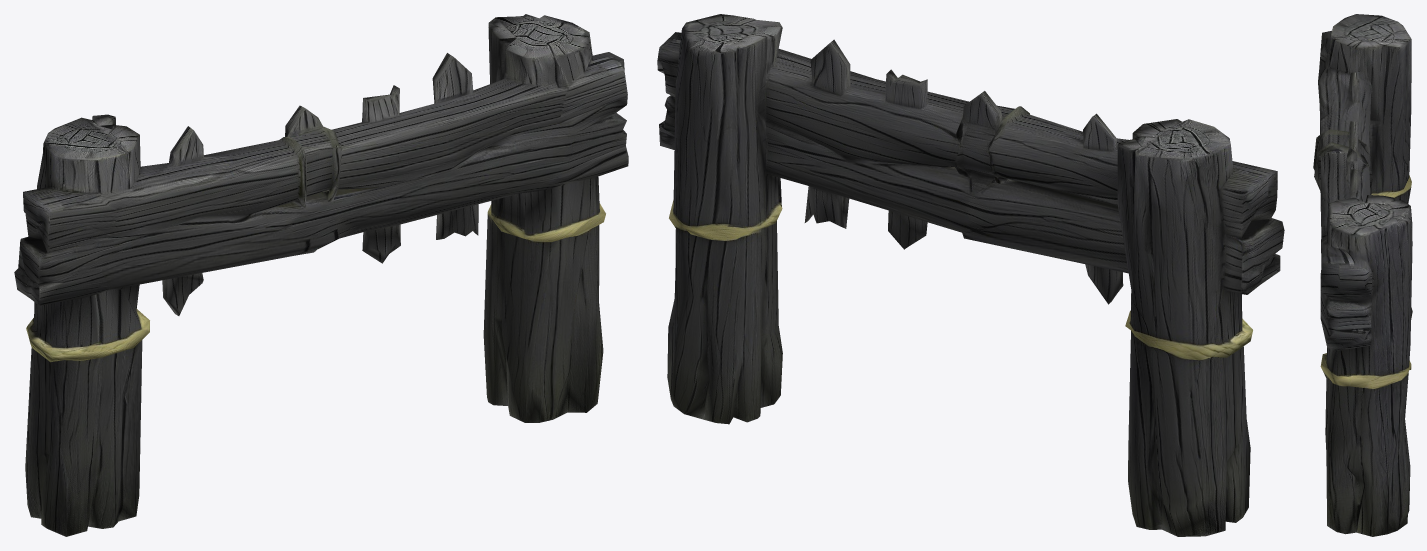
File: prop-fence.glb
3 views of the same model, side by side, from view 1: azimuth 30°, elevation 25°; view 2: azimuth 150°, elevation 25°; view 3: azimuth 270°, elevation 25° (orthographic). The views are drawn at different scales.
Size of the model in its own units: 2 by 1.2 by 0.35.
Materials: 1 (1 with a texture image).
